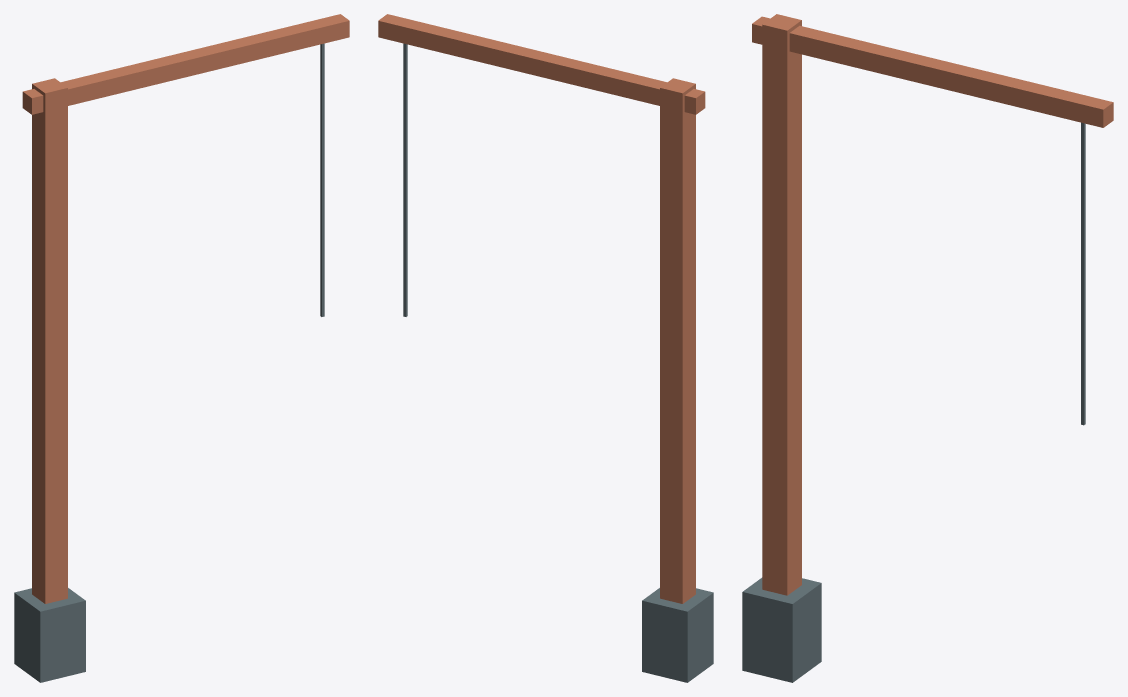
The model's file is crane.glb.
3 renders of one model, left to right at view 1: azimuth 30°, elevation 25°; view 2: azimuth 150°, elevation 25°; view 3: azimuth 330°, elevation 25°, orthographic. The views are drawn at different scales.
Size of the model in its own units: 7 by 12.25 by 1.
